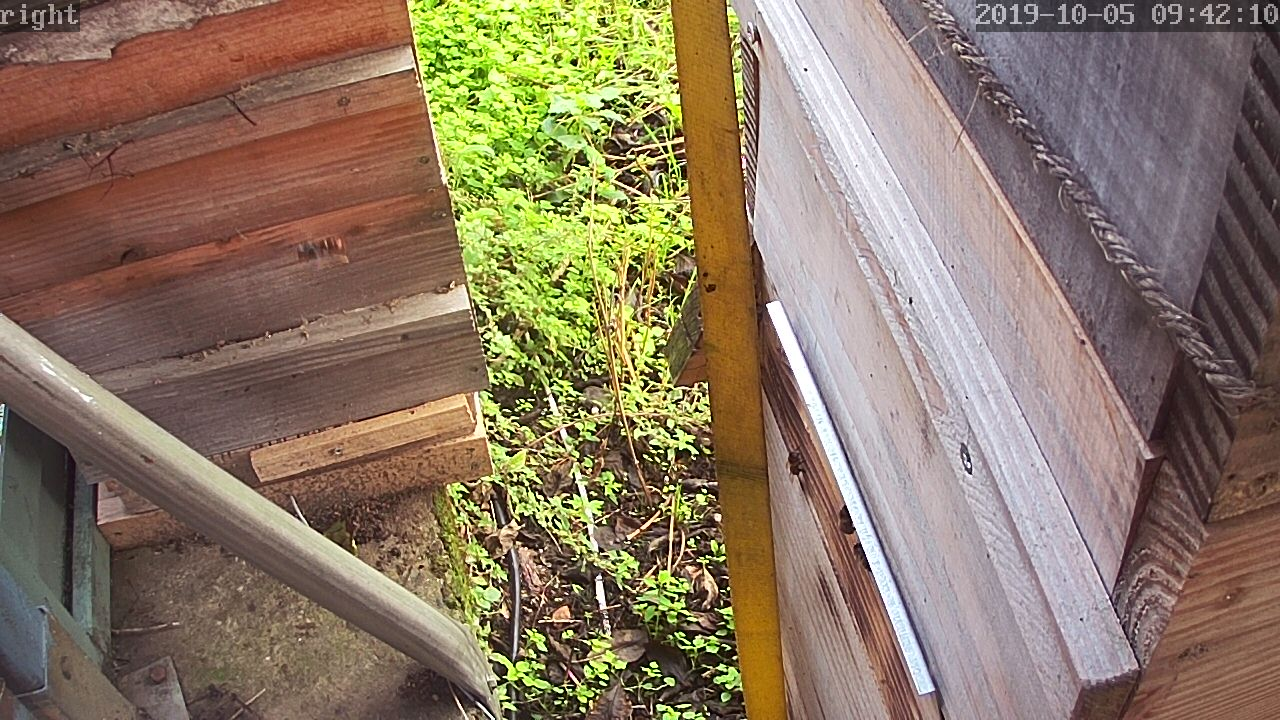bee: (777, 440, 811, 481), (844, 538, 878, 578), (827, 505, 860, 539)
hornet: (293, 236, 353, 277)
